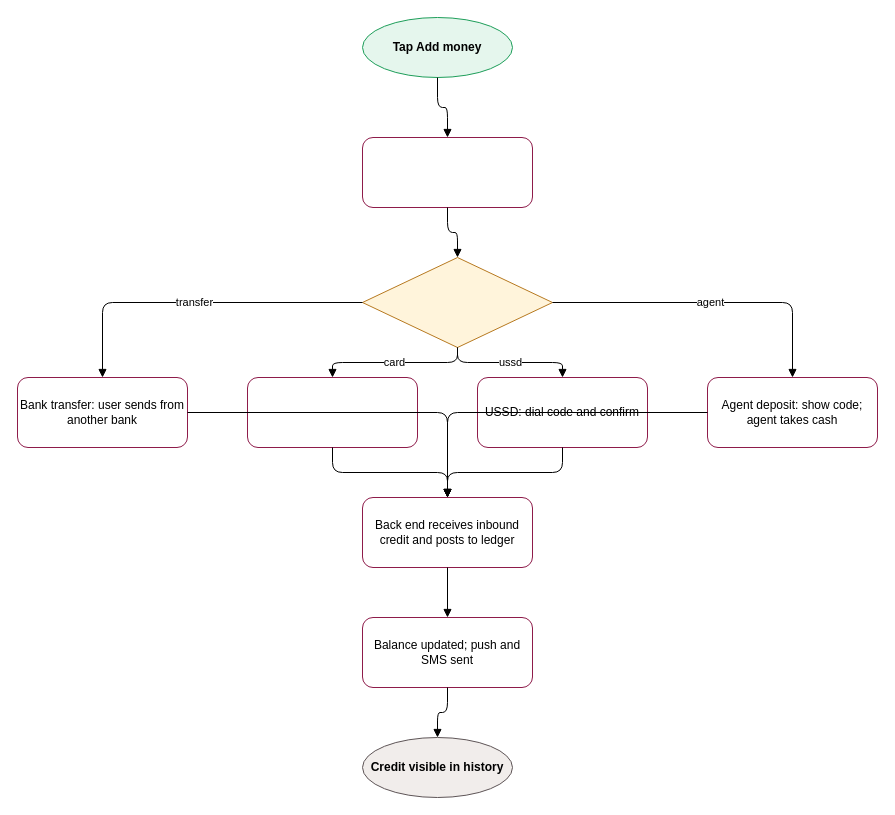
The diagram is 895 pixels wide and 815 high, and some of its shapes have lost their labels. Each missing label, with the centre of its shape:
"Card top-up: enter amount and card; processor authorises" belongs at point 332,412.
"Choose method" belongs at point 457,302.
"Show account number and options" belongs at point 447,172.
